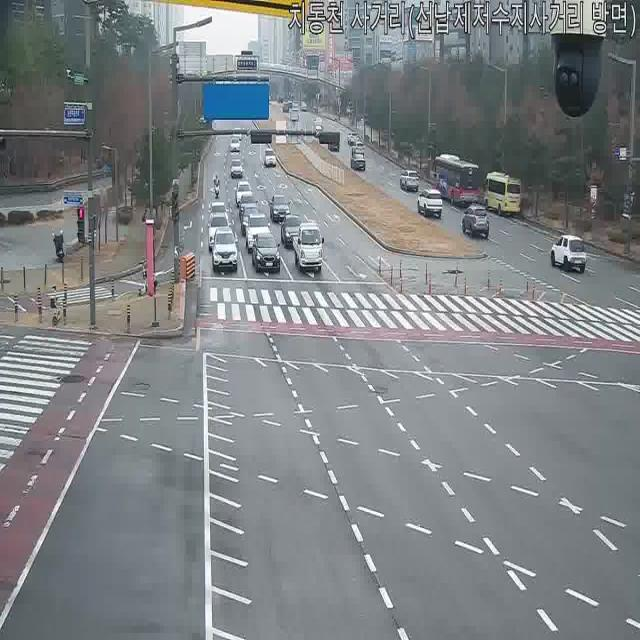Bus: (434, 154, 482, 208), (482, 172, 524, 216)
Car: (550, 234, 587, 273), (210, 228, 238, 274), (251, 232, 281, 274), (244, 213, 272, 252), (461, 204, 490, 239), (206, 215, 232, 250), (280, 214, 306, 248), (417, 188, 443, 218), (269, 194, 291, 223), (240, 207, 262, 235), (239, 192, 259, 221), (208, 201, 229, 227), (235, 180, 253, 208), (400, 170, 419, 192), (230, 157, 244, 179), (350, 152, 366, 171), (326, 133, 339, 151), (264, 148, 276, 167), (352, 140, 365, 156), (229, 136, 241, 152), (314, 118, 324, 136), (348, 131, 359, 146), (289, 106, 299, 122), (300, 101, 308, 112)
Motorcycle: (213, 174, 221, 199)
Truck: (294, 221, 324, 273)
